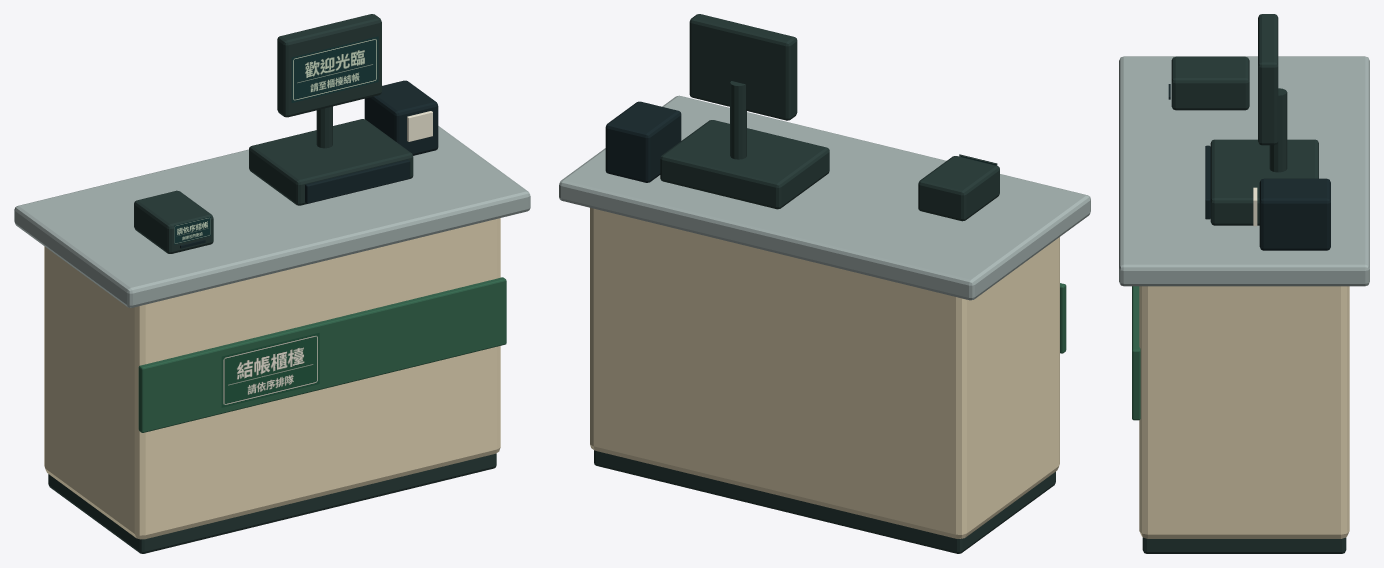
The model's file is 04_Checkout.glb.
3 renders of one model, left to right at view 1: azimuth 30°, elevation 25°; view 2: azimuth 150°, elevation 25°; view 3: azimuth 270°, elevation 25°, orthographic. The views are drawn at different scales.
Visible parts, largest first — view 1: 04_Checkout; view 2: 04_Checkout; view 3: 04_Checkout.
Boxes of the visible parts, x1,y1,x2,y2 form: 04_Checkout: (14, 14, 530, 553); 04_Checkout: (559, 14, 1090, 553); 04_Checkout: (1119, 14, 1369, 553).
Bounding box in the file's own units: 1.48 × 1.5 × 0.74.
Materials: 7 (1 with a texture image).
